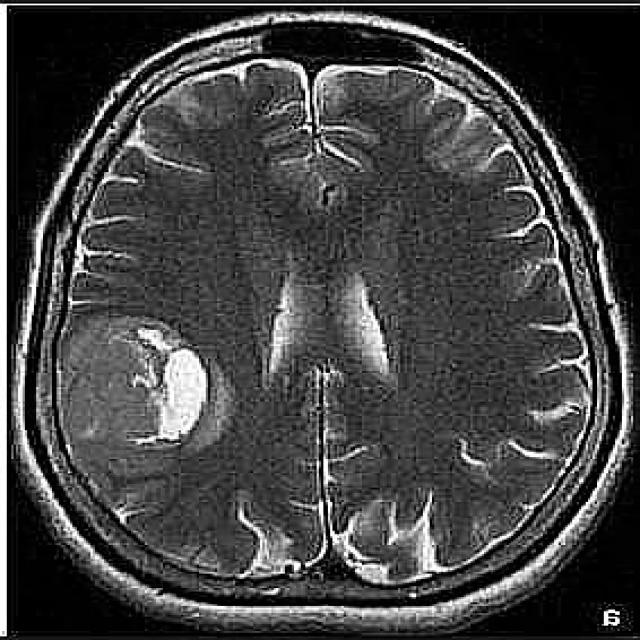Tumor-Cell: (54, 297, 238, 454)
